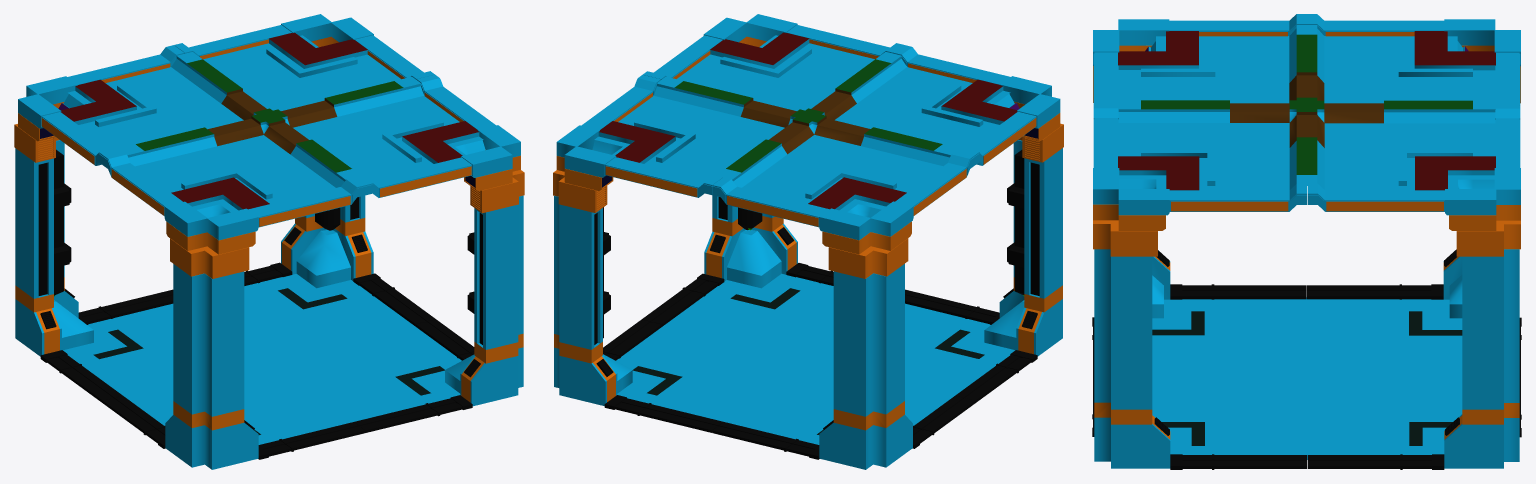
Rendered from sf_four.fbx.
The picture shows the model from 3 angles, left to right: view 1: azimuth 30°, elevation 25°; view 2: azimuth 150°, elevation 25°; view 3: azimuth 270°, elevation 25°; orthographic projection. The views are drawn at different scales.
Parts seen in each view (by area): view 1: Cylinder006; view 2: Cylinder006; view 3: Cylinder006.
Boxes of the visible parts, bbox=[...] form: Cylinder006: bbox=[14, 14, 524, 469]; Cylinder006: bbox=[553, 14, 1063, 469]; Cylinder006: bbox=[1092, 14, 1521, 469].
Bounding box in the file's own units: 79.13 × 55.98 × 79.13.
